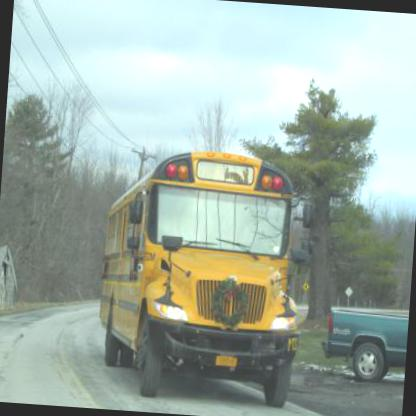bus: (94, 144, 320, 408)
